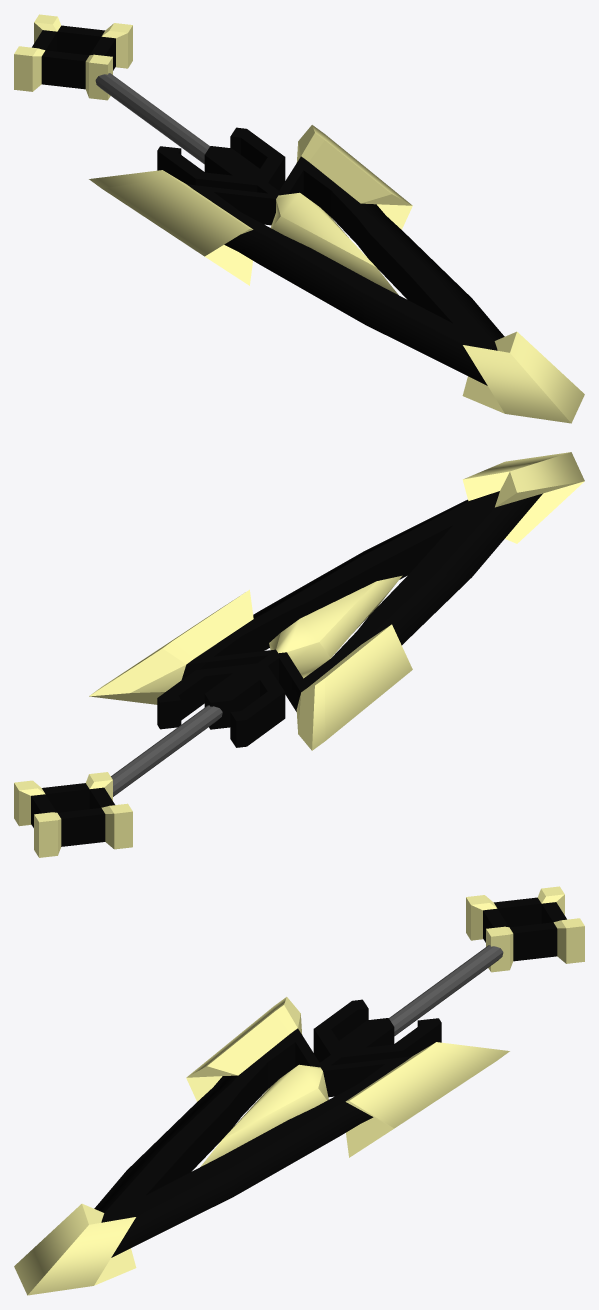
The model's file is BlackGoldSwordAlt.fbx.
The picture shows the model from 3 angles, top to bottom: view 1: azimuth 30°, elevation 25°; view 2: azimuth 150°, elevation 25°; view 3: azimuth 330°, elevation 25°; orthographic projection.
Visible parts, largest first — view 1: BlackGoldSwordAlt; view 2: BlackGoldSwordAlt; view 3: BlackGoldSwordAlt.
Part boxes in pixels (<box>): BlackGoldSwordAlt: <box>14,14,584,423</box>; BlackGoldSwordAlt: <box>14,452,584,857</box>; BlackGoldSwordAlt: <box>14,886,584,1295</box>.
Bounding box in the file's own units: 4.38 × 1.2 × 18.07.
